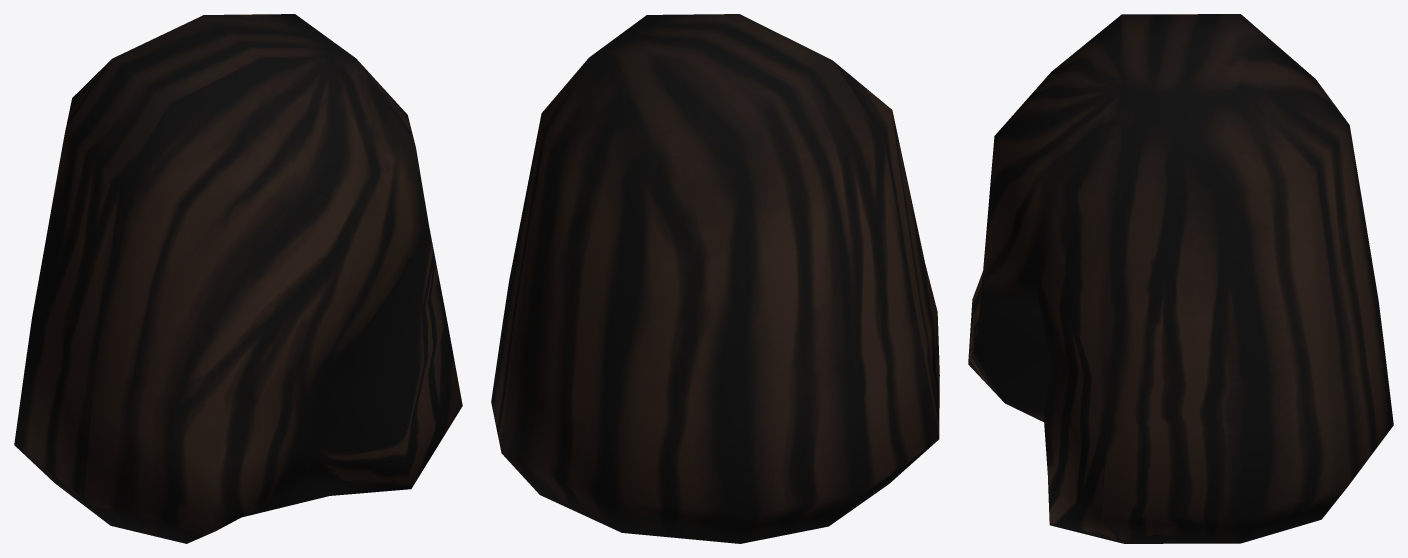
The model's file is character_Head11.FBX.
The picture shows the model from 3 angles, left to right: view 1: azimuth 30°, elevation 25°; view 2: azimuth 150°, elevation 25°; view 3: azimuth 270°, elevation 25°; orthographic projection.
Parts seen in each view (by area): view 1: Sphere126; view 2: Sphere126; view 3: Sphere126.
Boxes of the visible parts, x1,y1,x2,y2 form: Sphere126: [14, 14, 462, 543]; Sphere126: [491, 14, 939, 543]; Sphere126: [968, 14, 1393, 543].
Bounding box in the file's own units: 44.55 × 52.43 × 43.25.
